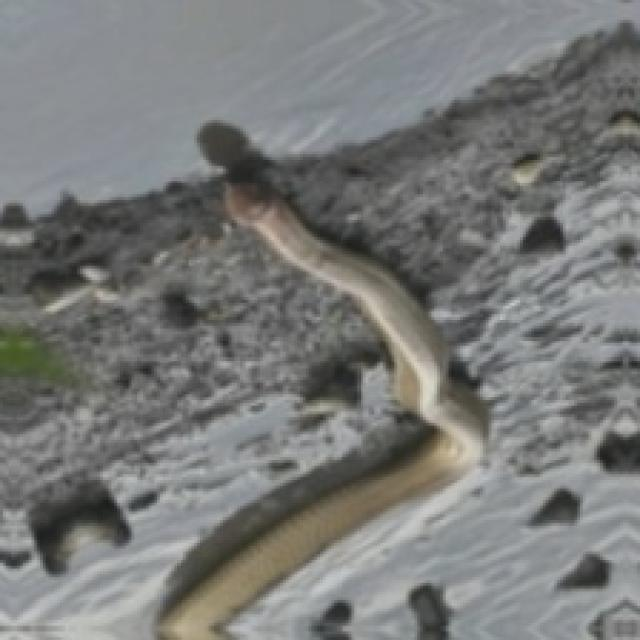king cobra: (160, 123, 486, 637)
